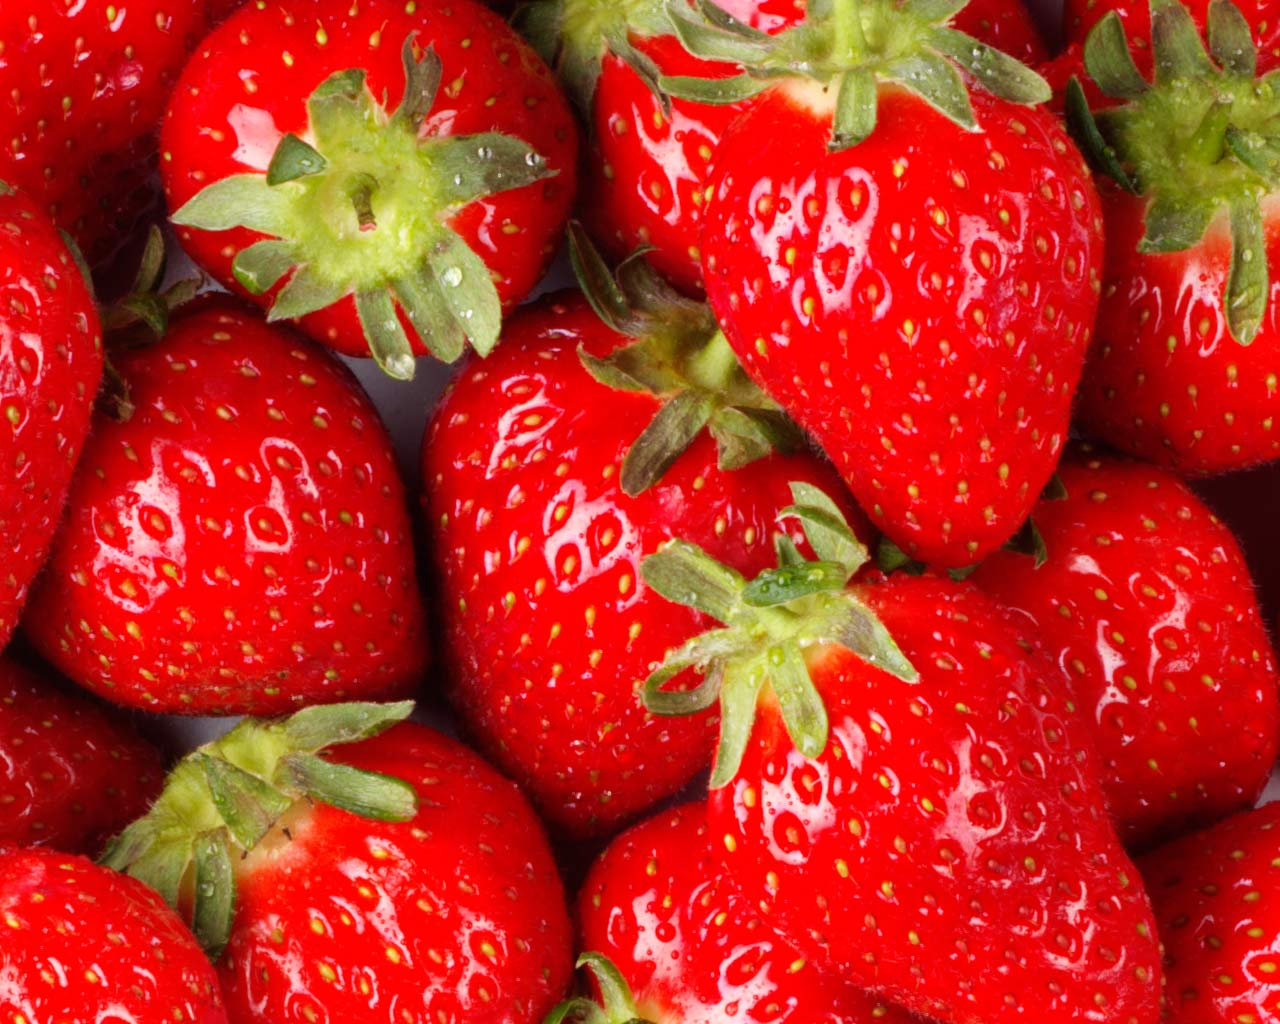strawberry: (701, 13, 1099, 576), (728, 540, 1151, 1024), (431, 306, 802, 823), (41, 286, 416, 747), (154, 6, 577, 358), (184, 724, 545, 1024)
